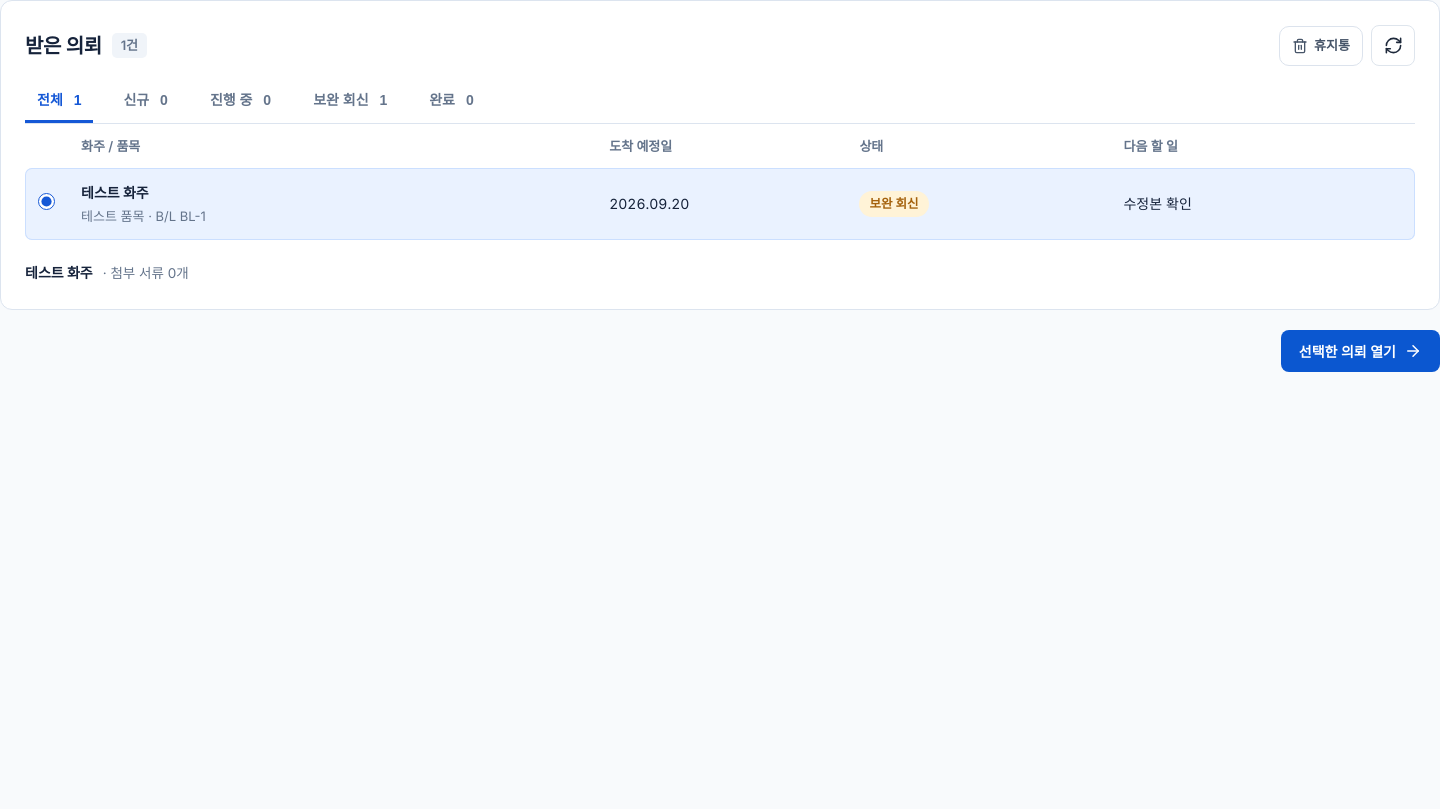
forwarder task tabs › explains document-only resubmission without inventing a reply or file changes
The width and height of the screenshot is (1440, 809).
Click the button "선택한 의뢰 열기" at (1360,351), box [1281,330,1439,372]
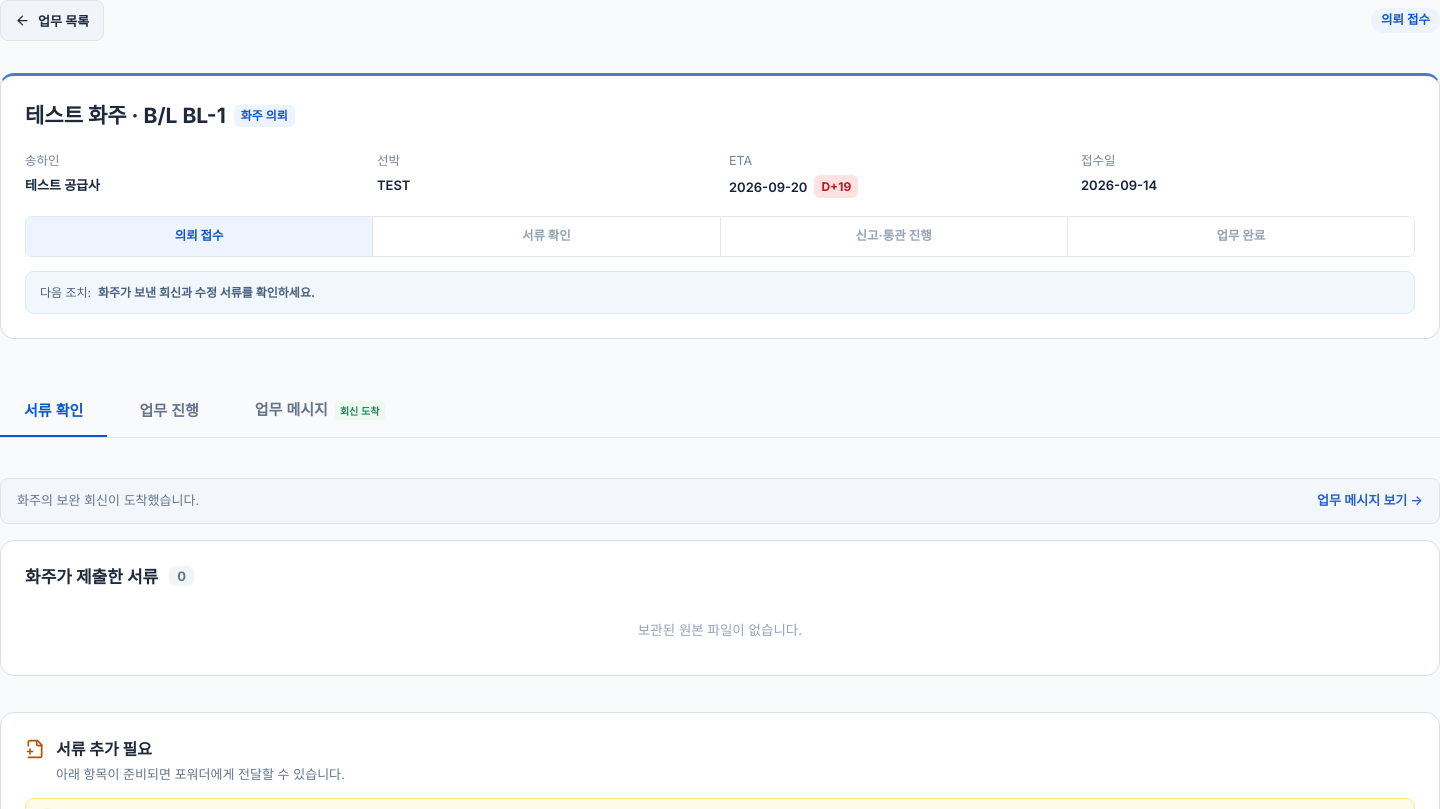
Click the button "업무 메시지 회신 도착" at (320,410), box [231,383,409,437]
(page scrolled)
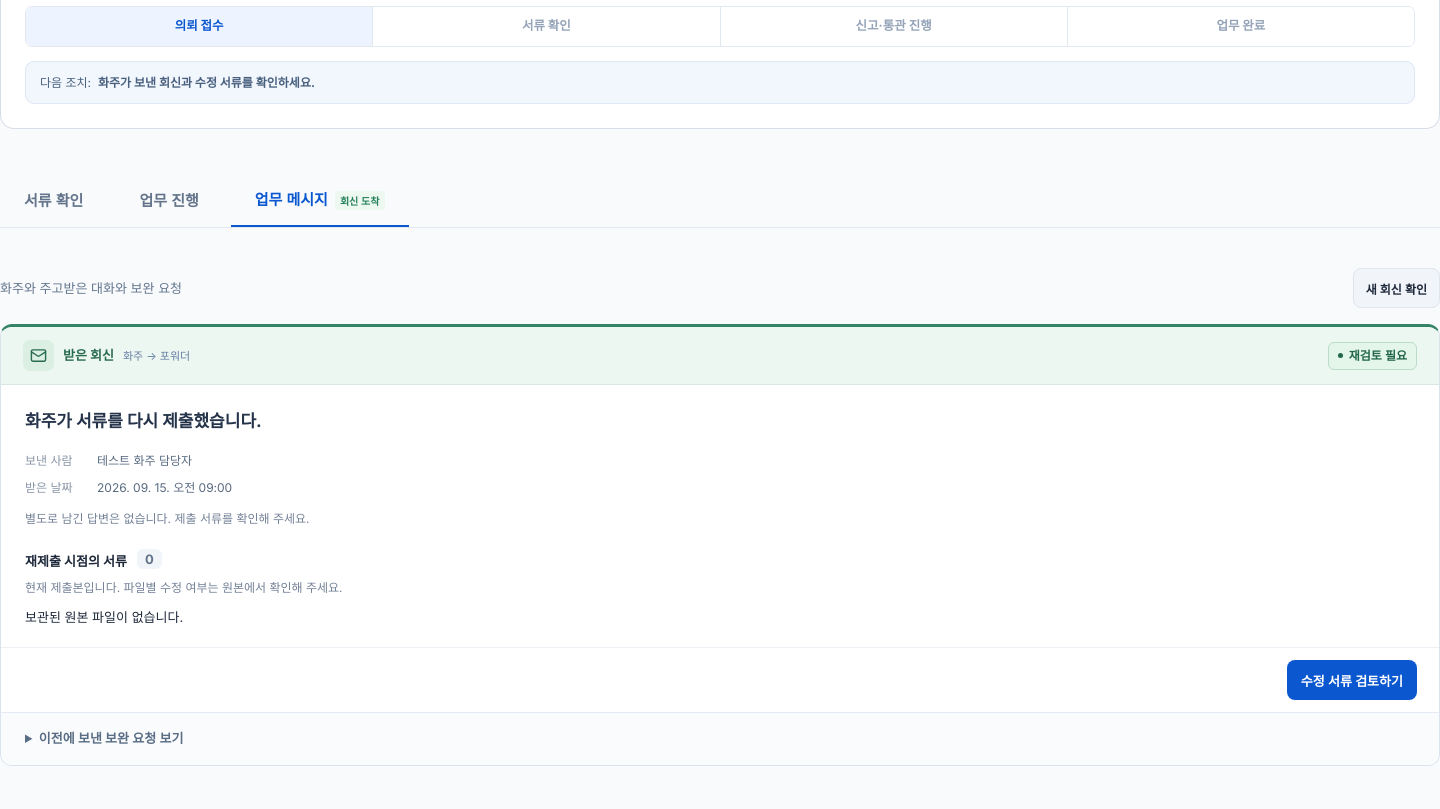
Now the text "화주가 서류를 다시 제출했습니다." is shown, box [25,411,262,431]
Now the element with class "fwd-received-body" shows "별도로 남긴 답변은 없습니다.", box [25,511,310,526]
Now the element with class "fwd-reply-documents" shows "보관된 원본 파일이 없습니다.", box [25,609,183,625]
